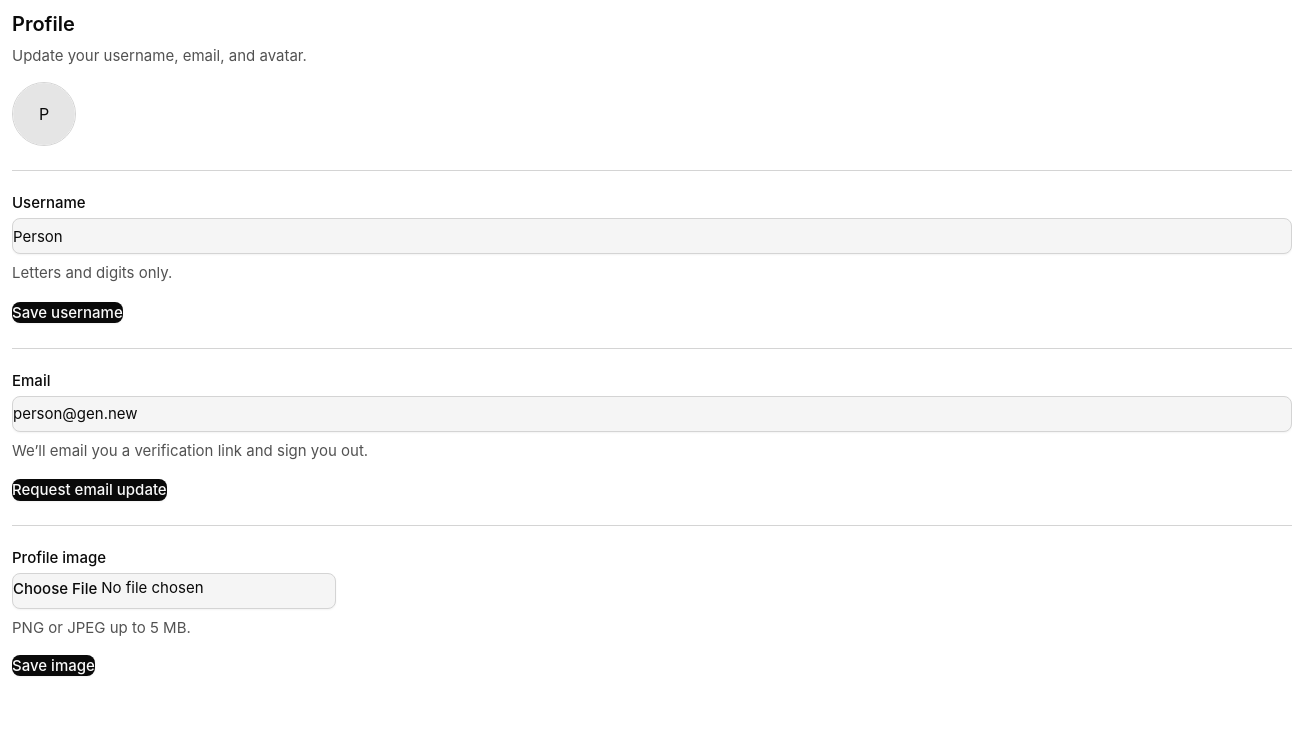
Scenario: ProfileTab › surfaces username conflicts returned from the server
This screenshot has width=1304, height=732.
Replace the text in the 1st field with "Ada" at (652, 236), box [12, 218, 1292, 254]
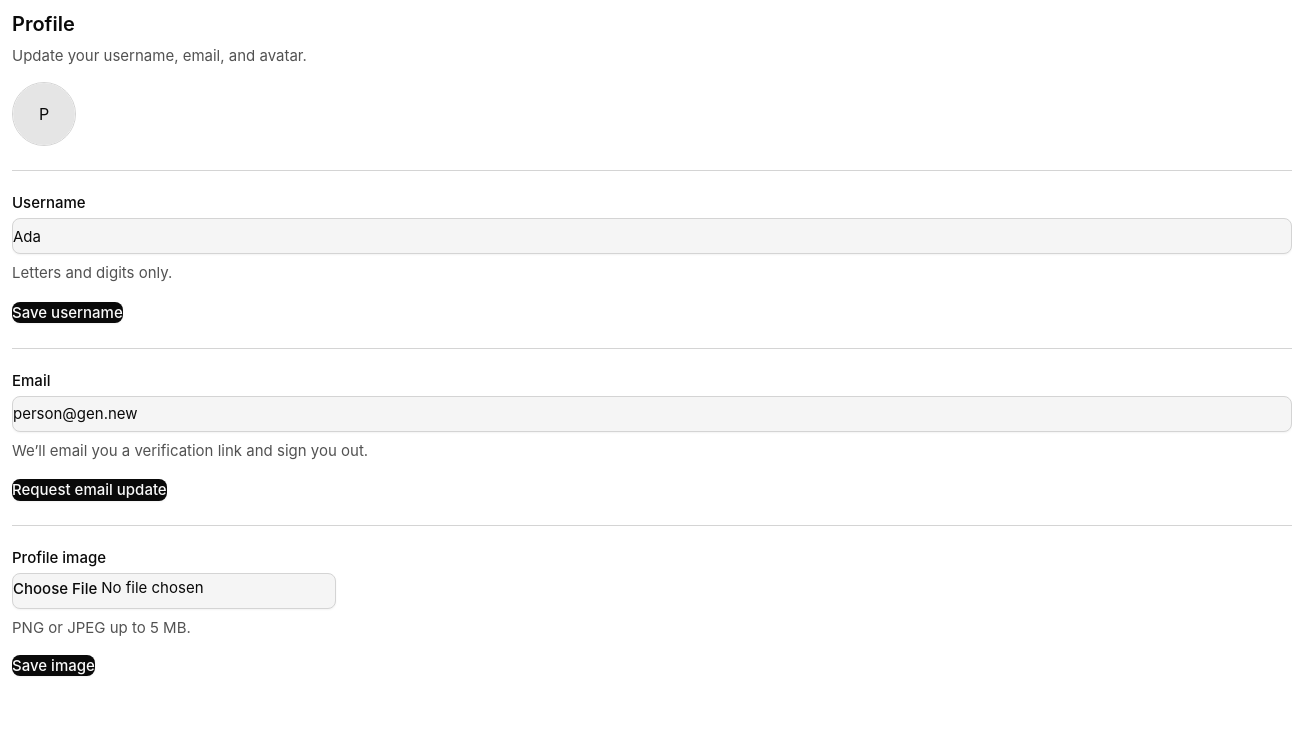
Submit the form with test id "username-form", box [12, 195, 1292, 324]
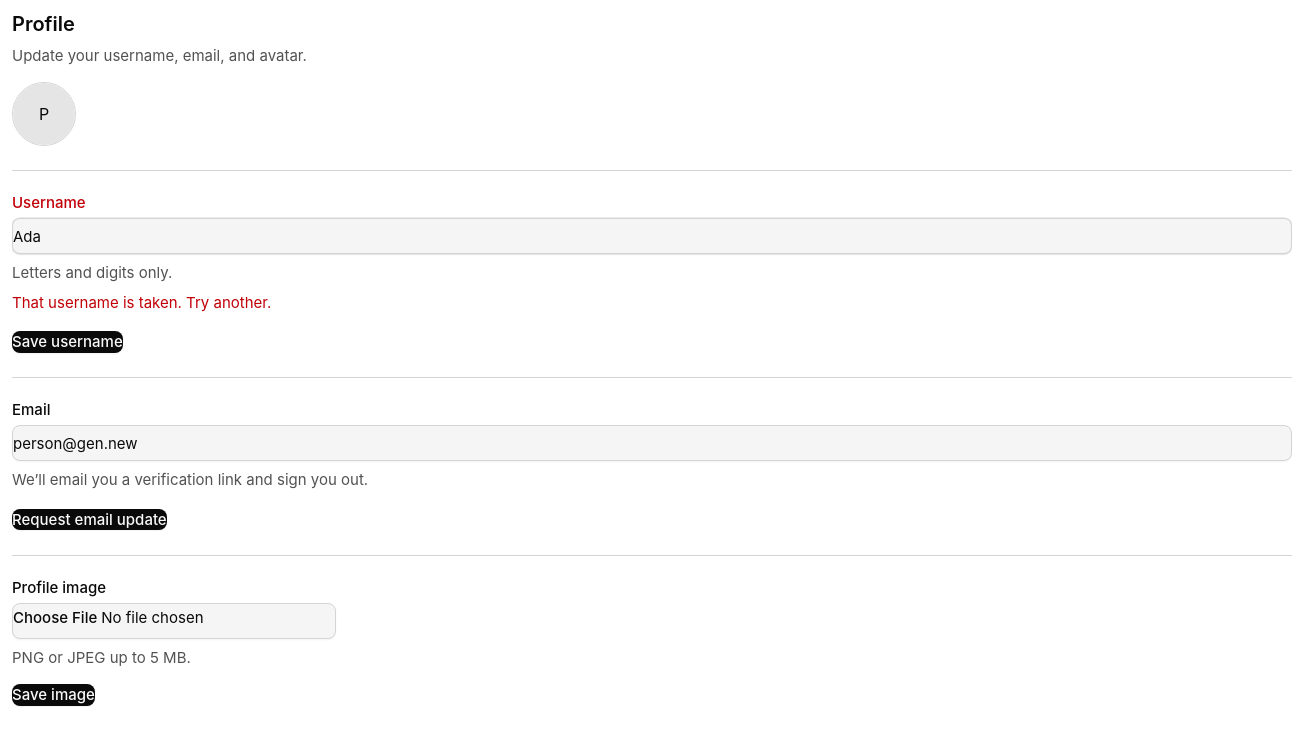
Check: the text "That username is taken. Try another." is shown, box [12, 293, 271, 312]
